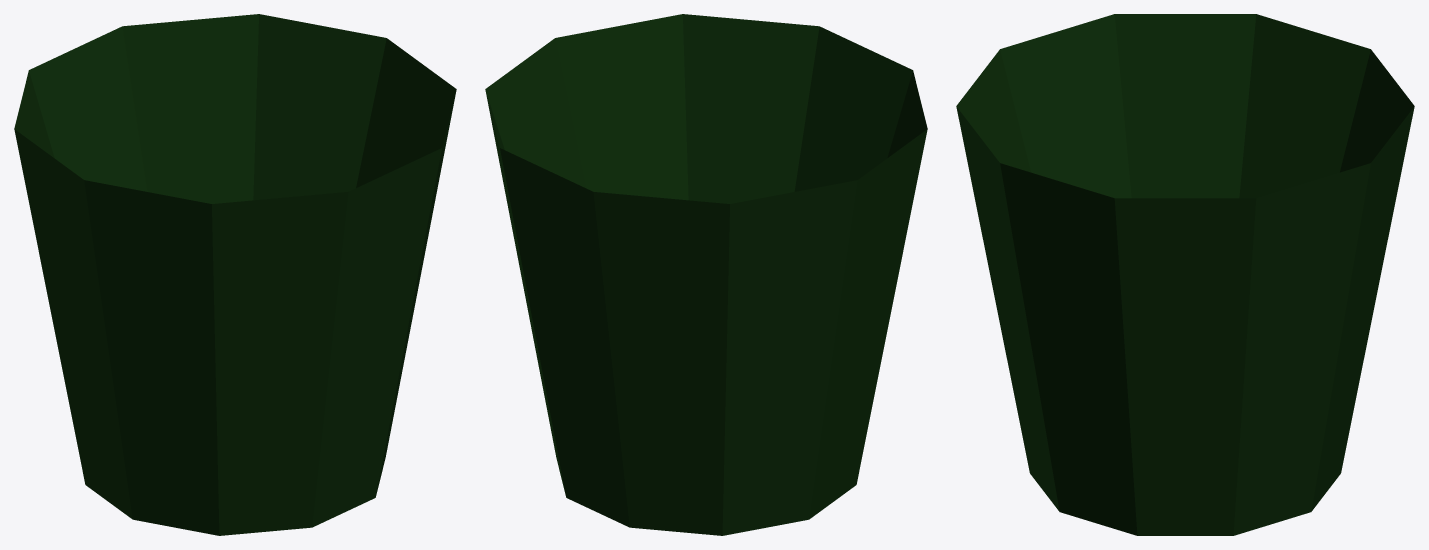
The model's file is Caneca.fbx.
3 views of the same model, side by side, from view 1: azimuth 30°, elevation 25°; view 2: azimuth 150°, elevation 25°; view 3: azimuth 270°, elevation 25° (orthographic).
Visible parts, largest first — view 1: Caneca; view 2: Caneca; view 3: Caneca.
Boxes of the visible parts, box(x1,y1,x2,y2) form: Caneca: box(14, 14, 456, 535); Caneca: box(485, 14, 927, 535); Caneca: box(956, 14, 1414, 535).
Bounding box in the file's own units: 280 × 261 × 295.
